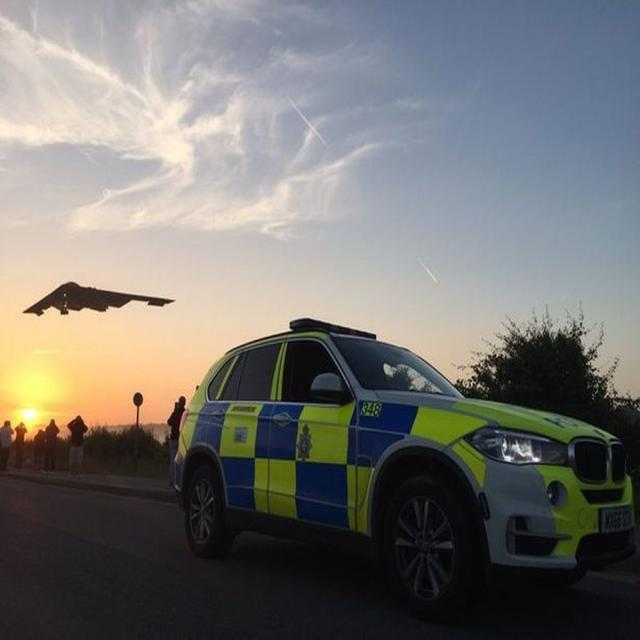MIL_Plane: (20, 281, 175, 317)
